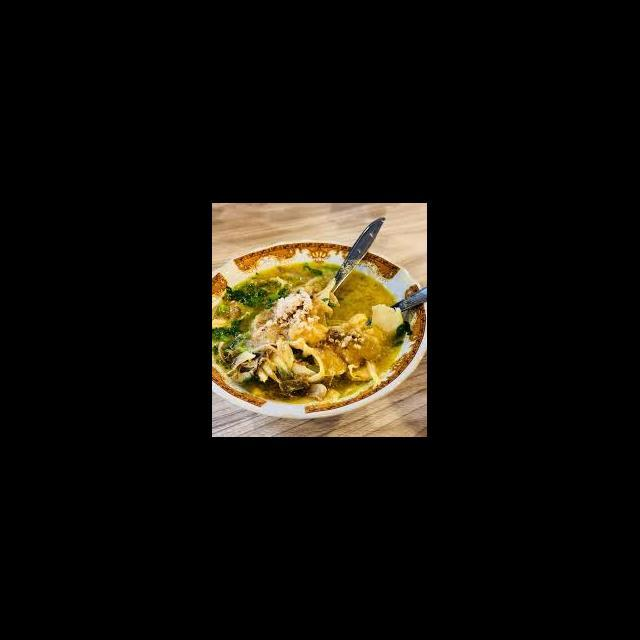Soto: (211, 237, 425, 418)
